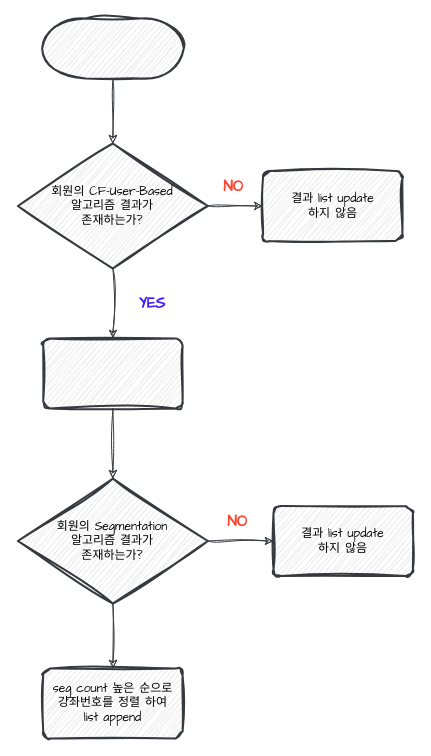
This 431x756 diagram has some shape labels left out. The box of each missing label's shape, as (x1, y1, x2, y2) in pixels:
learning history API 호출: (41, 17, 184, 79)
Similarity 높은 순으로 강좌번호를 정렬 하여 list append: (42, 337, 183, 409)
